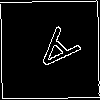A: (25, 25, 82, 82)
